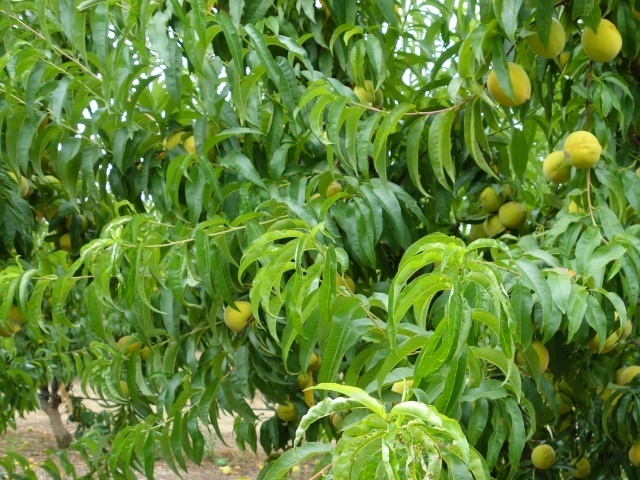peach: (483, 59, 537, 110), (577, 16, 626, 64), (559, 127, 607, 171), (524, 15, 570, 60), (514, 338, 552, 380), (539, 148, 576, 186), (350, 75, 388, 112), (220, 298, 256, 337), (163, 124, 196, 161), (495, 199, 530, 229), (587, 327, 621, 357), (475, 184, 508, 213), (526, 443, 557, 472), (478, 211, 508, 240), (63, 210, 90, 236), (53, 232, 79, 258), (549, 392, 575, 417), (272, 398, 299, 422), (117, 333, 143, 357), (302, 350, 324, 373)
